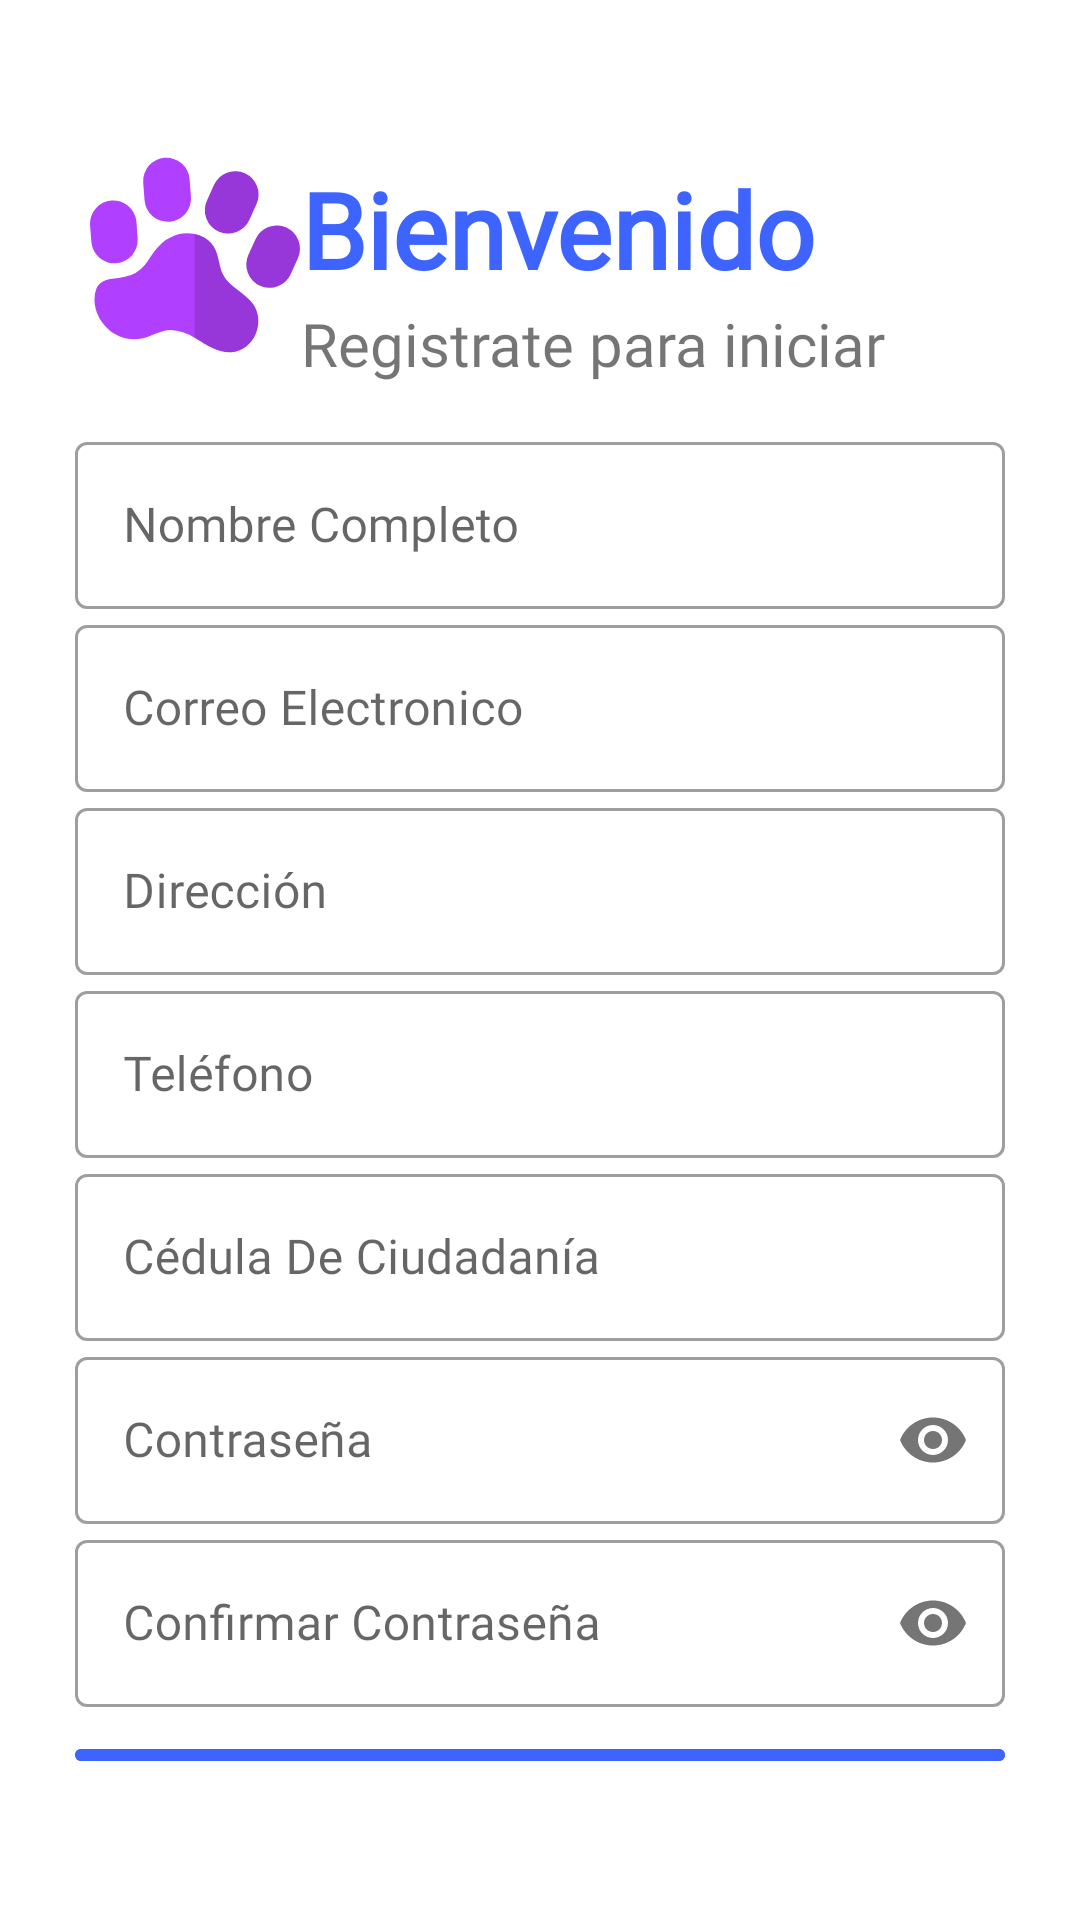

Icon bounding boxes for this 1080*1920 phone screenshot, format (x1, y1, x2, y2):
paw print animal: (90, 157, 300, 353)
